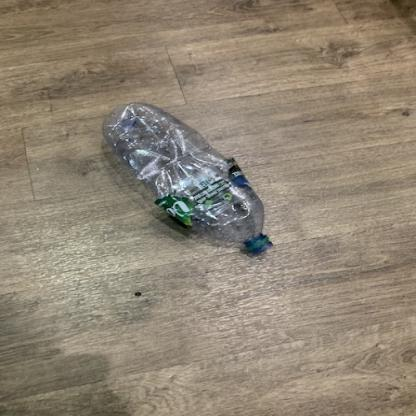trash: (101, 99, 276, 267)
